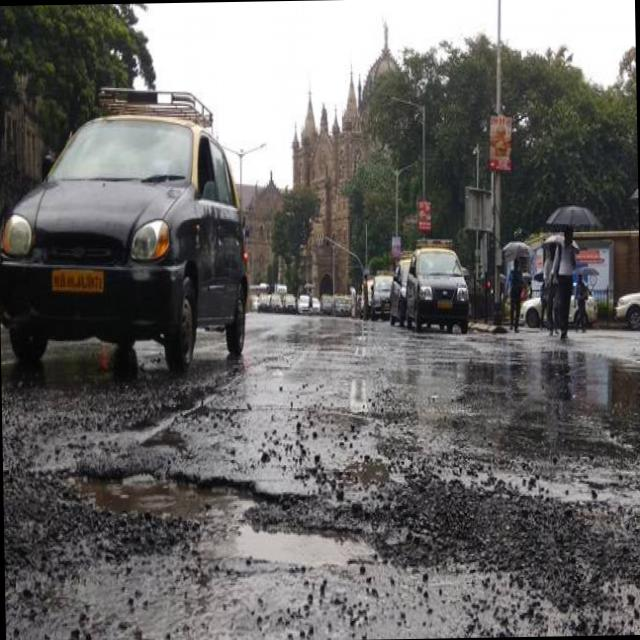Potholes: (59, 417, 376, 633)
